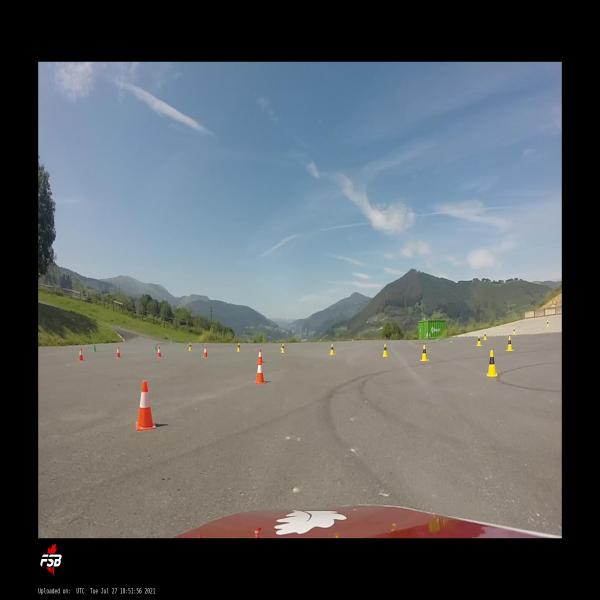orange_cone: (135, 380, 156, 431), (255, 358, 266, 384), (78, 347, 84, 362), (258, 349, 264, 363), (116, 346, 121, 358), (157, 346, 162, 357), (204, 346, 208, 358)
unknown_cone: (94, 344, 96, 352), (154, 343, 156, 351)
yellow_cone: (486, 350, 498, 377), (420, 344, 429, 361), (506, 336, 514, 352), (382, 343, 388, 357), (330, 343, 335, 355), (476, 336, 482, 346), (281, 343, 286, 353), (237, 342, 241, 352), (484, 332, 488, 340), (512, 327, 516, 335), (189, 342, 192, 351), (546, 321, 550, 327)
